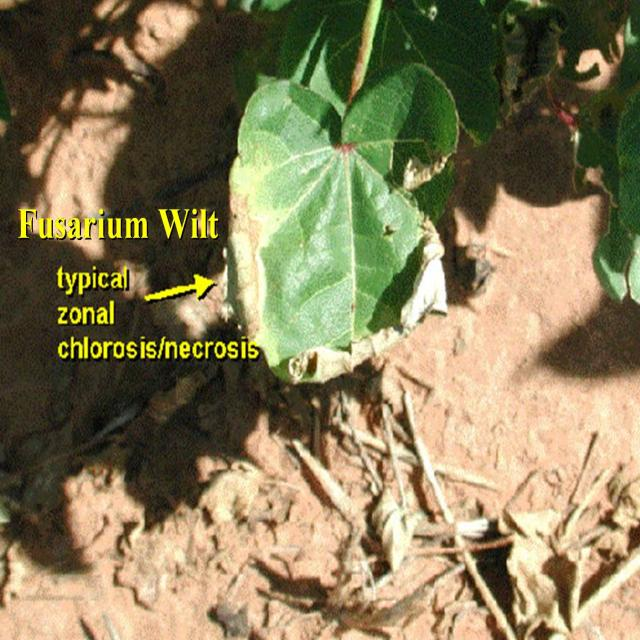Fusarium Wilt: (211, 142, 338, 376)
